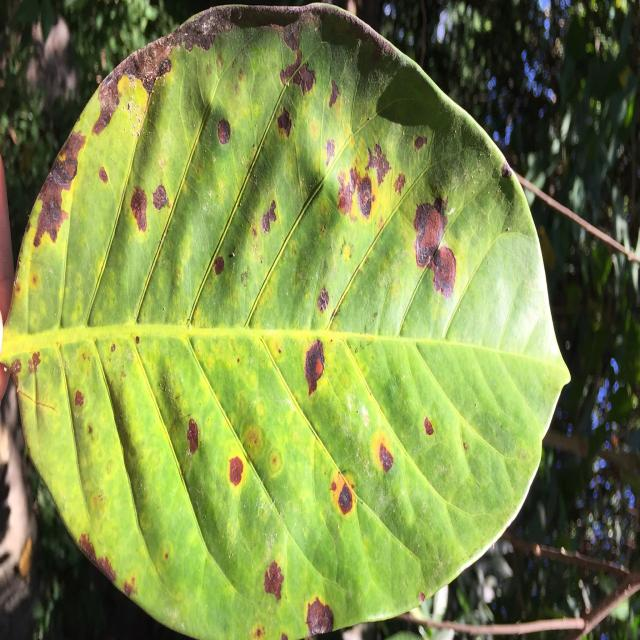Enfermedad-Mancha-de-hierro: (0, 8, 570, 640)
